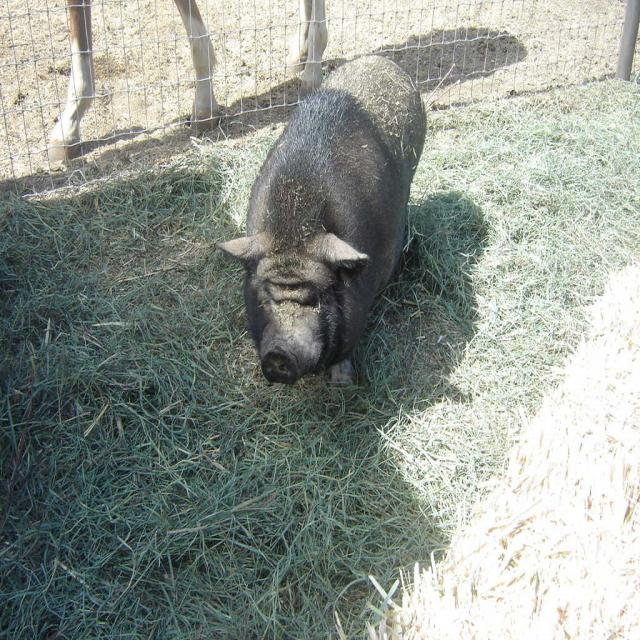Pig: (214, 52, 428, 395)
